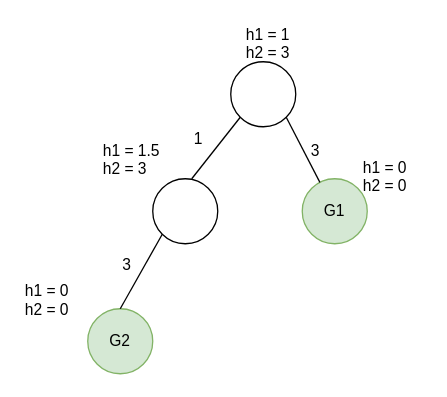
Image size: 447x397. Some labels were removed from this diagram. Here are the shapes that lost their labels. From the top down, the centre of each, then its label:
At (x=262, y=93): "S0".
At (x=184, y=210): "S1".
